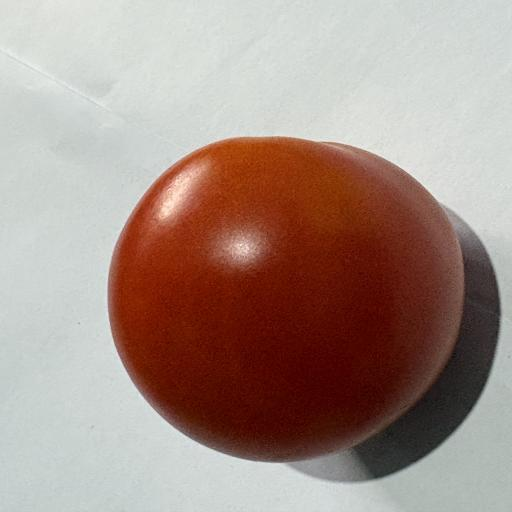ripe: (109, 137, 464, 462)
